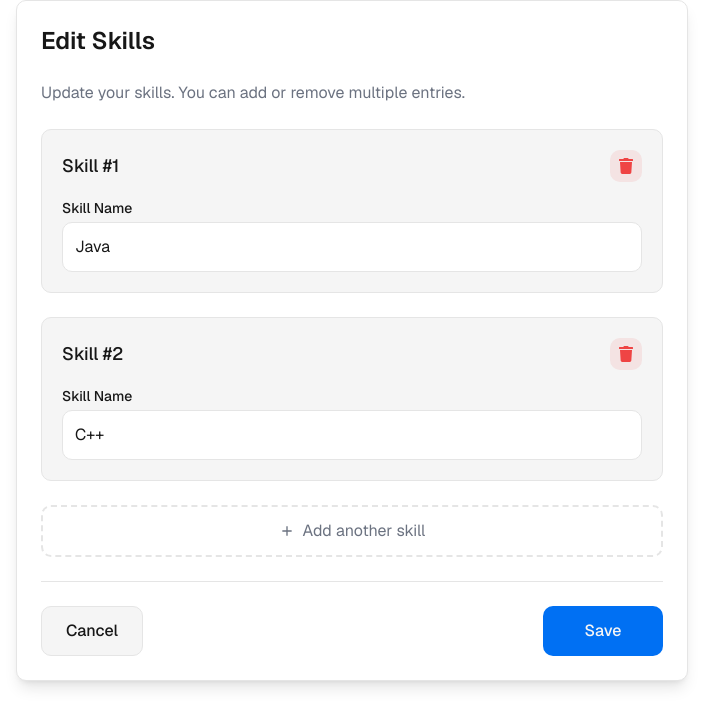
Test: EditAbilitiesForm Component › Zarządzanie listą (Filed Array) › powinien usunąć pole po kliknięciu ikony kosza
Expected: the number of fields is 2, left=62, top=222, right=642, bottom=272; left=62, top=410, right=642, bottom=460
Click the 1st button titled "Remove skill": click(626, 166) left=610, top=150, right=642, bottom=182
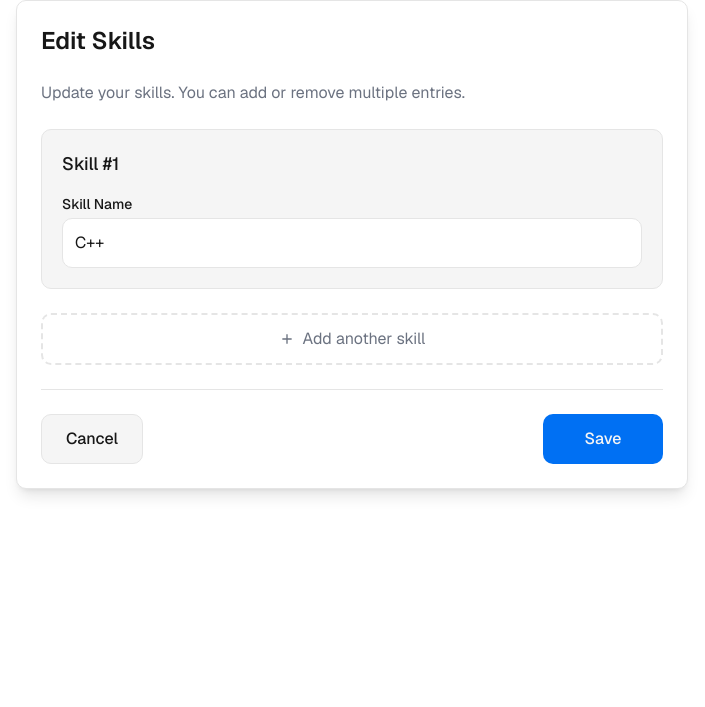
Expected: the number of fields is 1, left=62, top=218, right=642, bottom=268
Expected: the field holds "C++", left=62, top=218, right=642, bottom=268
